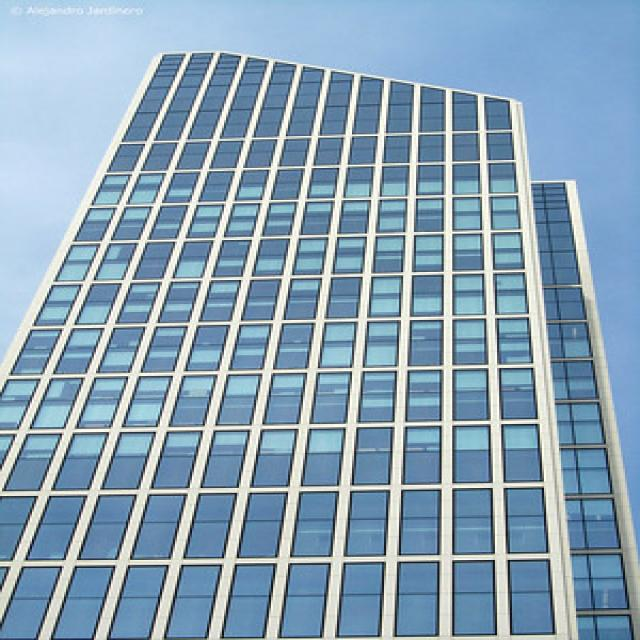Normal_building: (1, 45, 637, 640)
